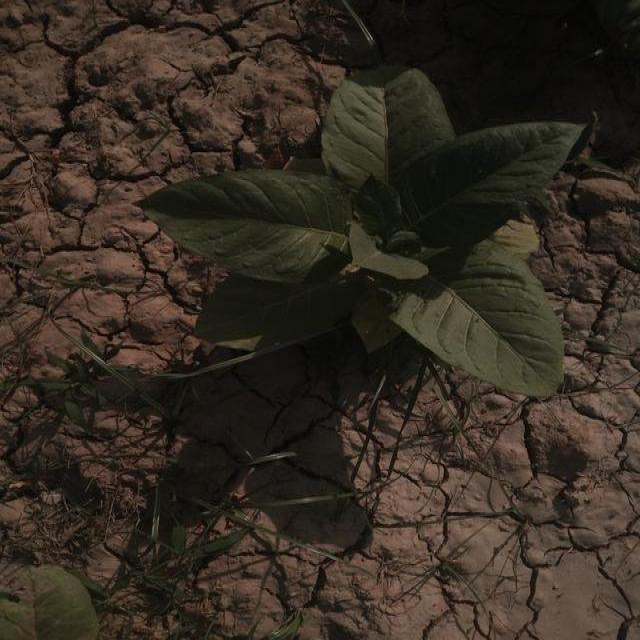crop: (142, 59, 568, 398), (1, 559, 101, 640)
